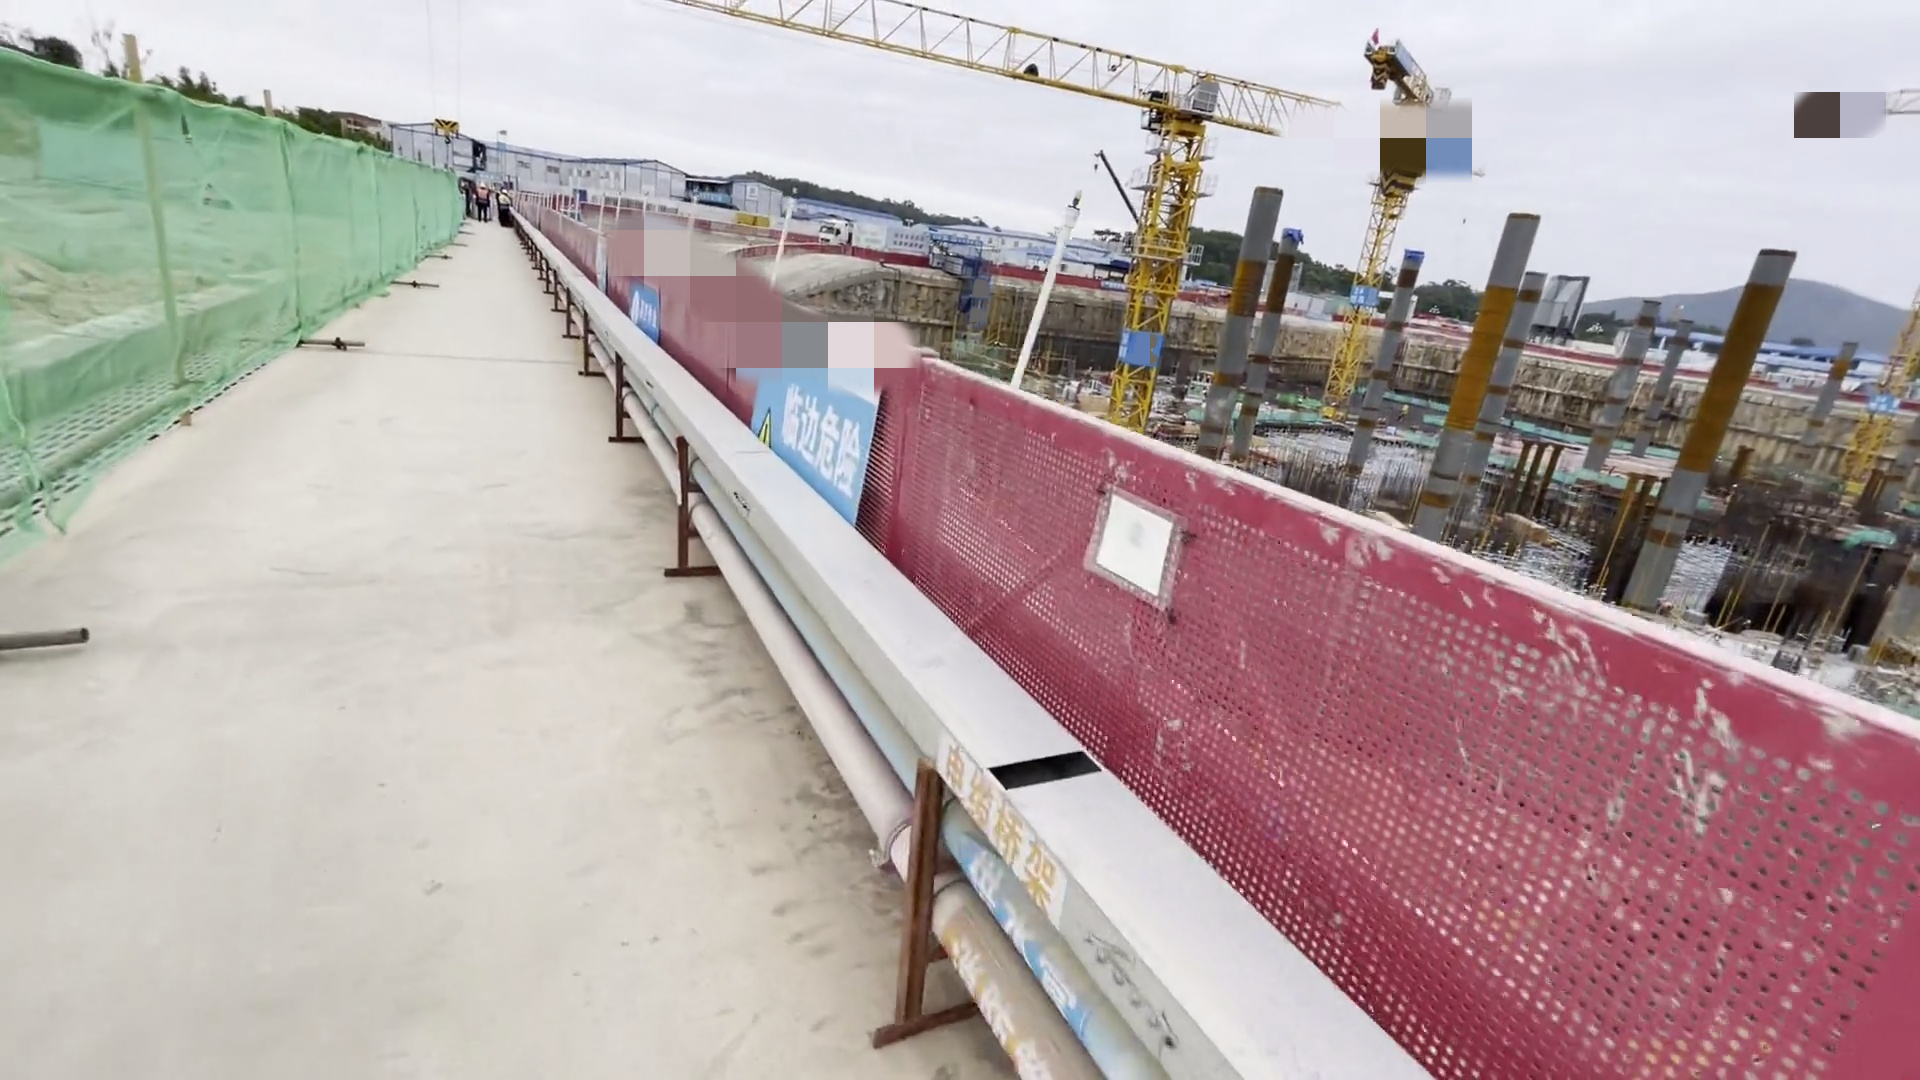fence: (590, 158, 1903, 1068)
hook: (417, 95, 470, 156)
person: (497, 179, 521, 239), (474, 177, 493, 225)
slogan: (735, 324, 885, 500), (581, 194, 670, 348)
